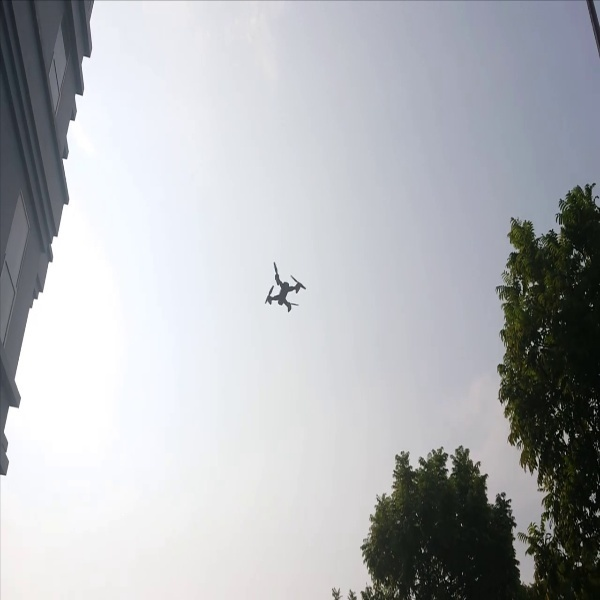drone: (251, 252, 314, 322)
